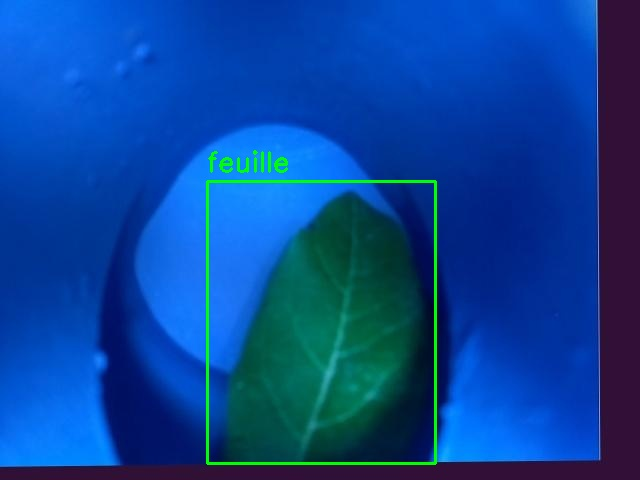feuille: (207, 181, 435, 463)
